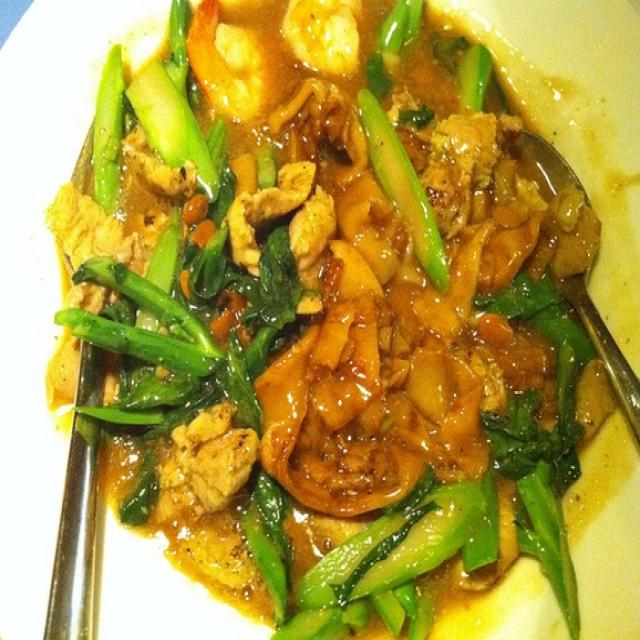面条主食: (41, 10, 596, 618)
